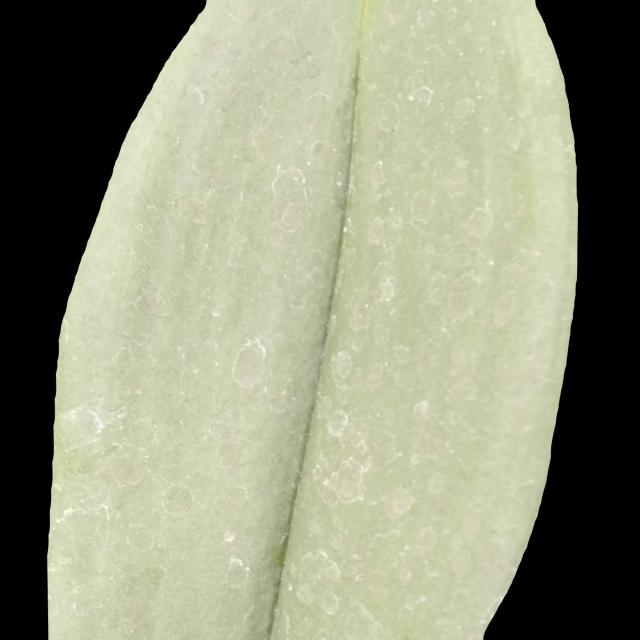mite: (230, 336, 272, 392), (328, 347, 355, 391), (404, 83, 434, 109)
spots: (46, 2, 580, 637)
